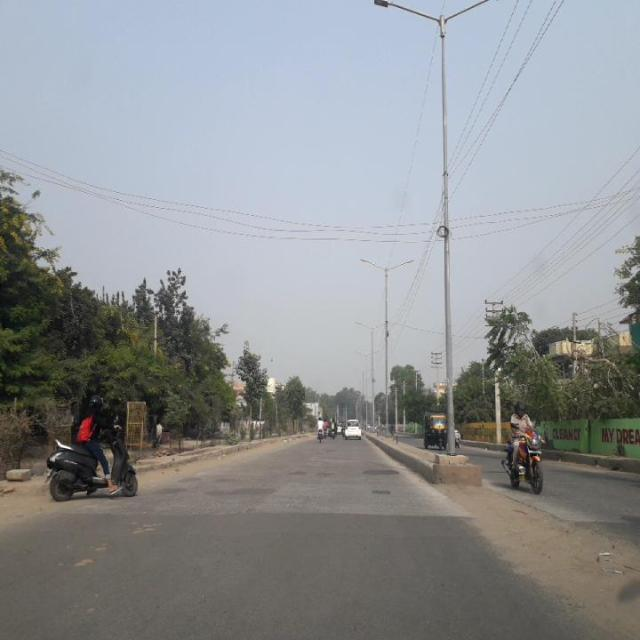Surface Erosion: (27, 504, 182, 580)
